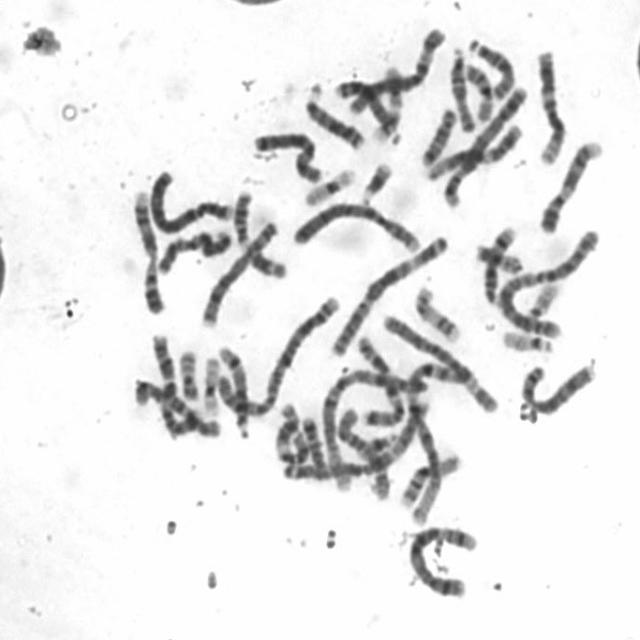A1: (307, 358, 428, 491), (401, 354, 476, 526)
A2: (213, 287, 344, 421), (492, 221, 604, 339)
A3: (324, 226, 453, 360), (276, 392, 438, 483)
B4: (286, 193, 422, 254), (142, 162, 236, 234)
B5: (435, 77, 530, 209), (401, 517, 481, 600)
C10: (127, 372, 225, 440), (332, 402, 394, 502)
C11: (228, 181, 290, 281), (269, 394, 312, 466)
C12: (418, 117, 526, 182), (530, 41, 570, 167)
C6: (378, 306, 502, 416), (340, 18, 450, 117)
C7: (147, 328, 207, 439), (351, 327, 405, 430)
C8: (194, 210, 282, 329), (514, 353, 600, 418)
C9: (534, 131, 606, 235), (126, 182, 168, 316)
D13: (327, 72, 403, 140), (298, 80, 368, 151)
D14: (212, 337, 253, 439), (476, 216, 520, 306)
D15: (463, 30, 518, 101), (444, 39, 478, 134)
E16: (394, 445, 466, 509), (458, 54, 497, 124)
E17: (408, 278, 463, 344), (367, 58, 406, 146)
E18: (415, 99, 460, 169), (299, 414, 331, 481)
F19: (297, 161, 358, 208), (197, 348, 223, 418)
F20: (470, 236, 526, 276), (174, 342, 202, 401)
G21: (354, 153, 394, 205), (360, 425, 400, 457)
G22: (496, 322, 556, 354), (522, 274, 562, 318)
X: (247, 123, 325, 185), (152, 221, 234, 277)
